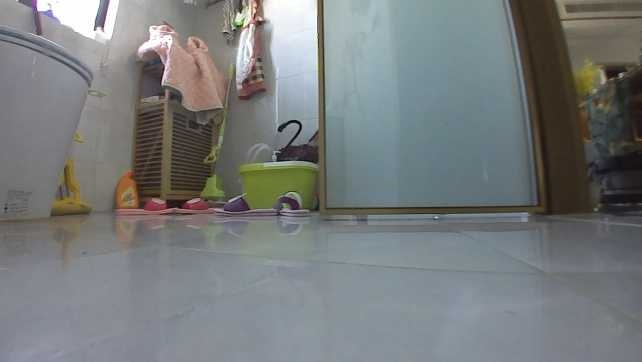bottle: (108, 165, 142, 206)
door_anno: (315, 0, 592, 219)
slipper: (210, 191, 276, 218), (111, 195, 173, 217), (271, 191, 309, 218), (172, 196, 212, 215)
toilet: (0, 20, 96, 226)
